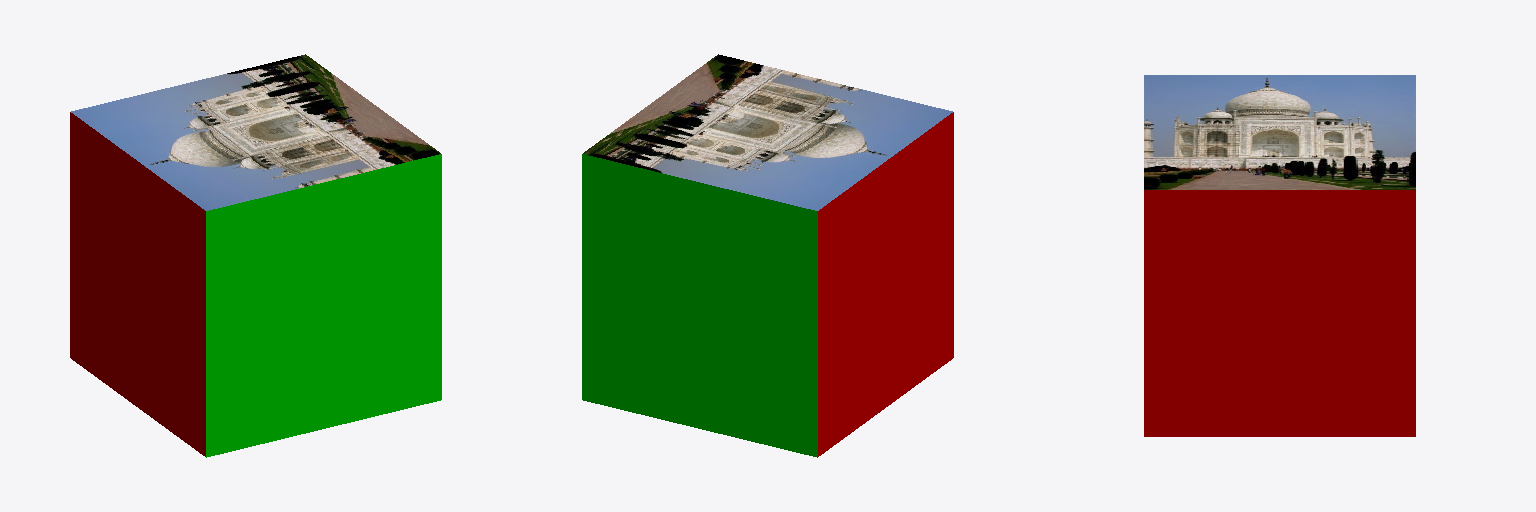
The picture shows the model from 3 angles: view 1: azimuth 30°, elevation 25°; view 2: azimuth 150°, elevation 25°; view 3: azimuth 270°, elevation 25°; orthographic projection.
Parts seen in each view (by area): view 1: cube; view 2: cube; view 3: cube.
Boxes of the visible parts, box(x1,y1,x2,y2) form: cube: box(70, 54, 441, 457); cube: box(582, 54, 953, 457); cube: box(1144, 75, 1415, 436).
Size of the model in its own units: 2 by 2 by 2.
Materials: 3 (1 with a texture image).